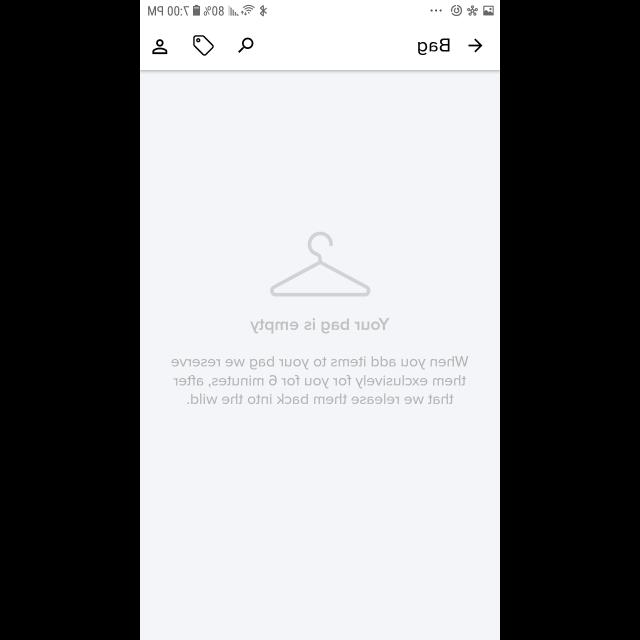icon: (193, 36, 215, 56), (238, 38, 254, 54), (152, 39, 168, 55), (468, 38, 482, 54)
image: (270, 231, 370, 297)
text: (170, 356, 468, 404), (250, 318, 390, 334), (418, 38, 450, 56)
uppertaskbar: (140, 1, 500, 17)
